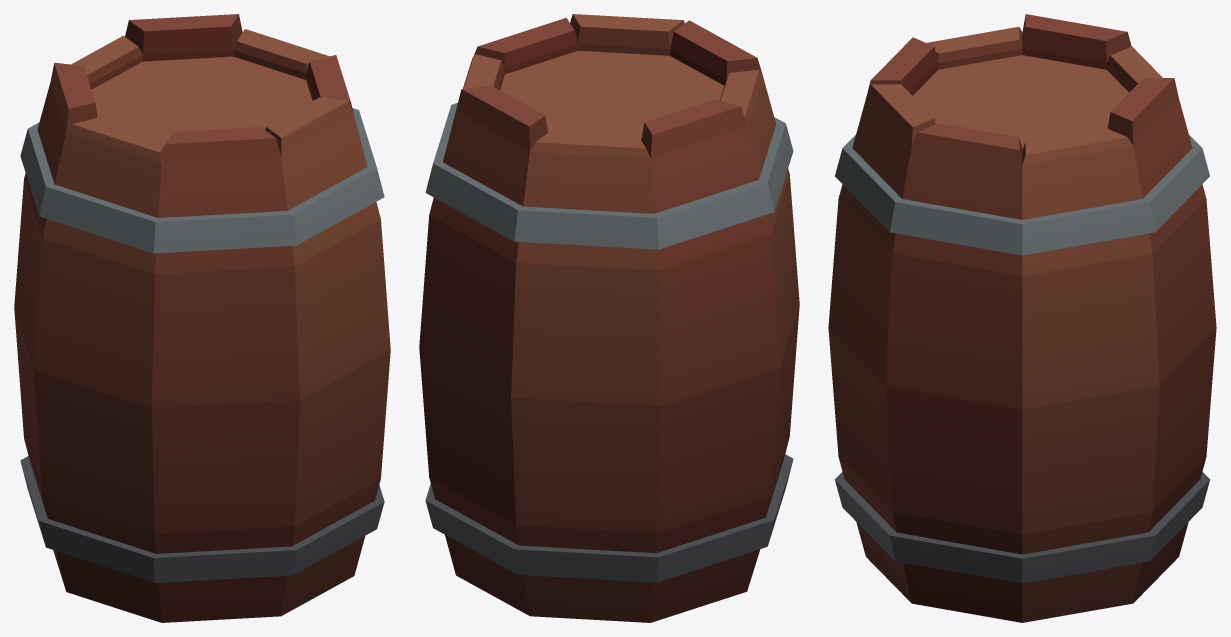
Rendered from farmpack2023barrelclosed.fbx.
3 views of the same model, side by side, from view 1: azimuth 30°, elevation 25°; view 2: azimuth 150°, elevation 25°; view 3: azimuth 270°, elevation 25° (orthographic).
Visible parts, largest first — view 1: farmpack2023barrelclosed; view 2: farmpack2023barrelclosed; view 3: farmpack2023barrelclosed.
Boxes of the visible parts, x1,y1,x2,y2 form: farmpack2023barrelclosed: (14,14,390,622); farmpack2023barrelclosed: (419,14,799,622); farmpack2023barrelclosed: (828,14,1216,622).
Size of the model in its own units: 1.29 by 1.29 by 1.76.
